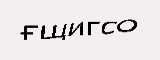Г: (85, 19, 100, 38)
И: (68, 21, 84, 37)
О: (117, 14, 140, 36)
С: (100, 17, 118, 38)
Щ: (35, 23, 70, 42)
Ғ: (20, 21, 36, 41)
